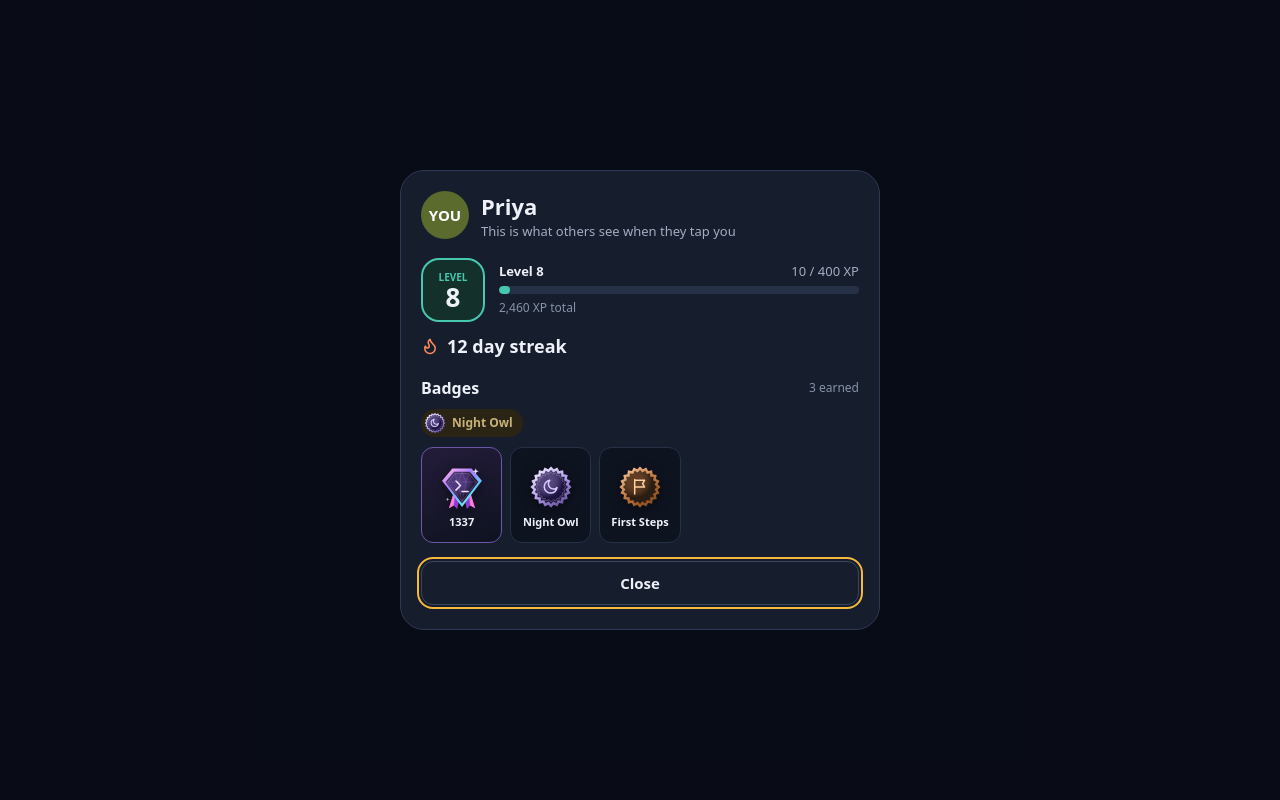
Test: MemberProfileSheet › shows a save error on your own profile
What coordinates should you click on to do the following:
click the button "Night Owl"
I would click on:
 (551, 495)
Its box is [510,447,591,543].
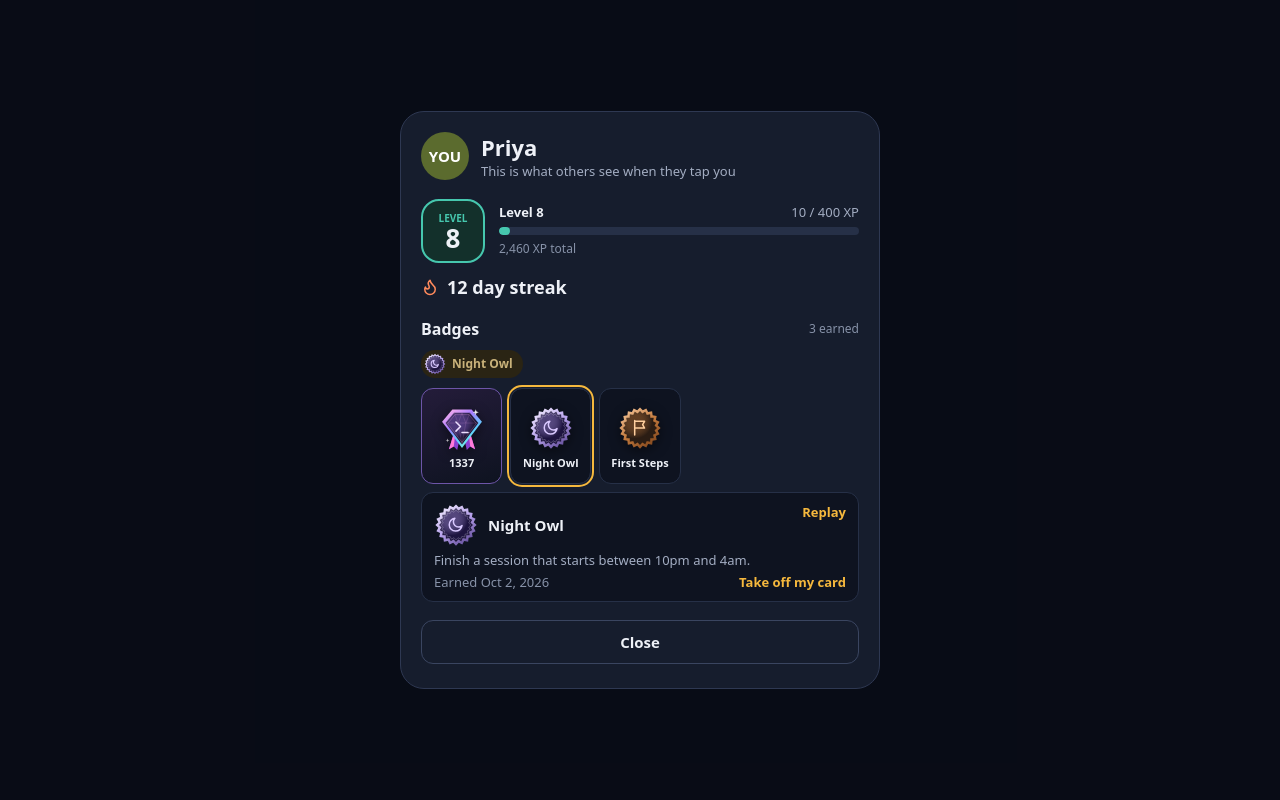
What coordinates should you click on to do the following:
click the button "Take off my card"
I would click on:
 (793, 582)
Its box is [739,573,846,592].
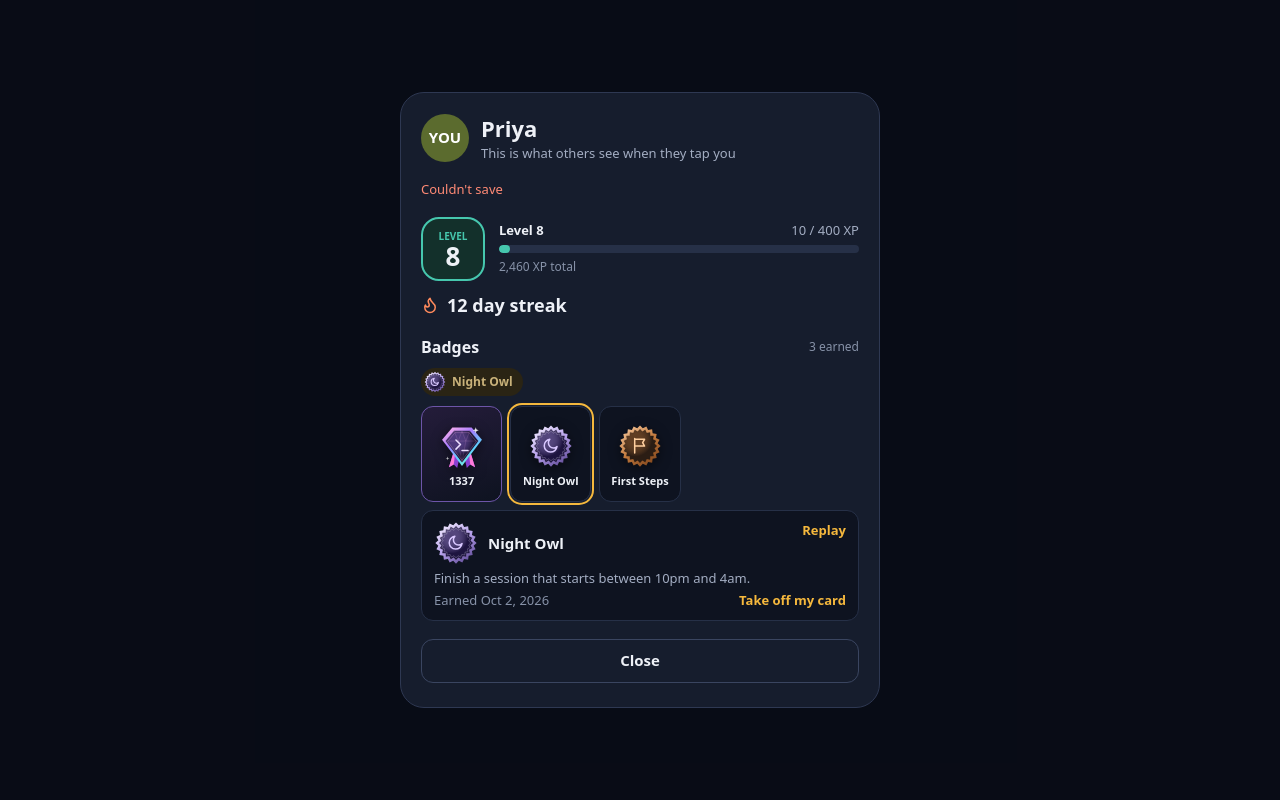
Expected: the message reads "Couldn't save", [421,180,503,198]
